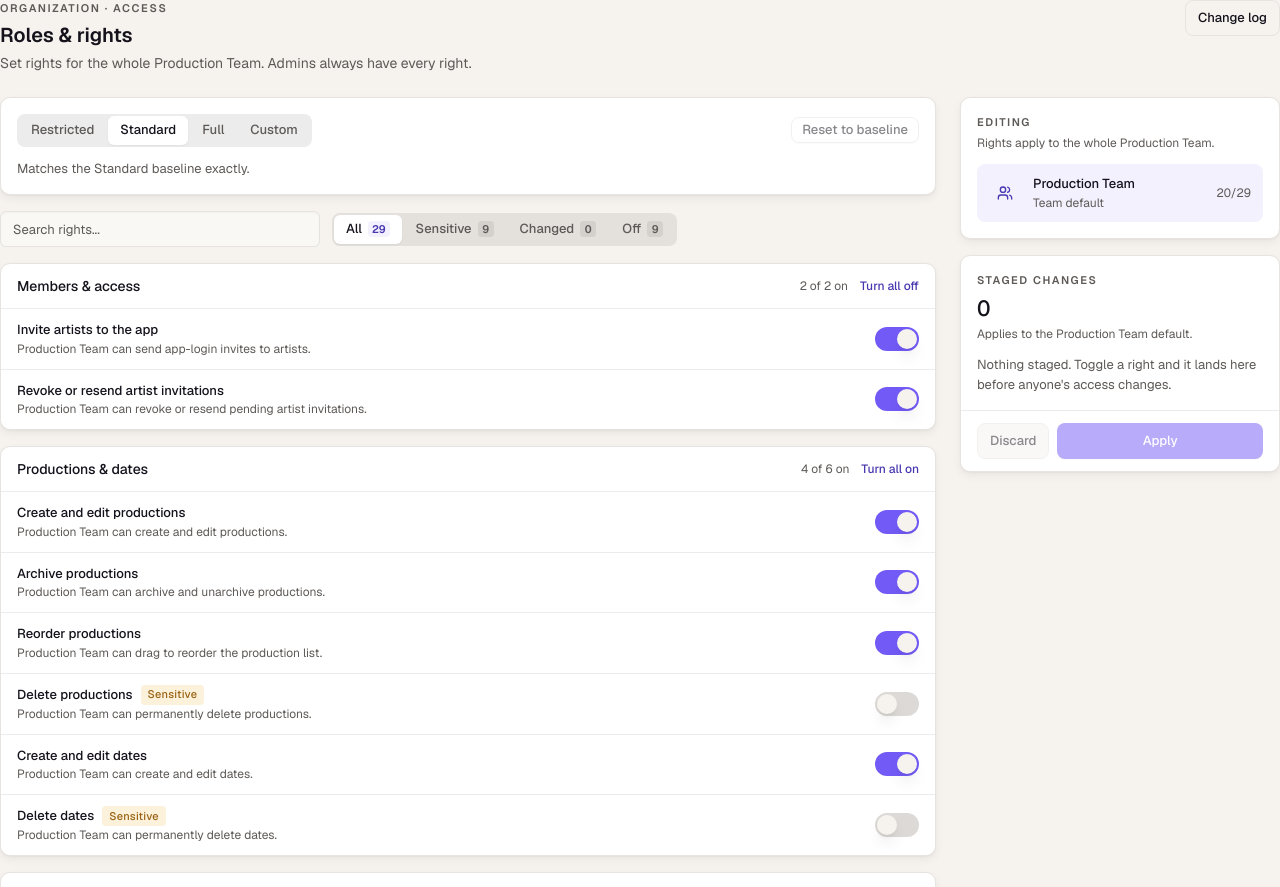
Test: RolesRightsTab › routes a sensitive toggle through the confirm dialog before writing
This screenshot has width=1280, height=887.
Later steps or results of the test are not shown.
Click the switch named "Delete productions".
click(897, 704)  # box [875,692,919,716]
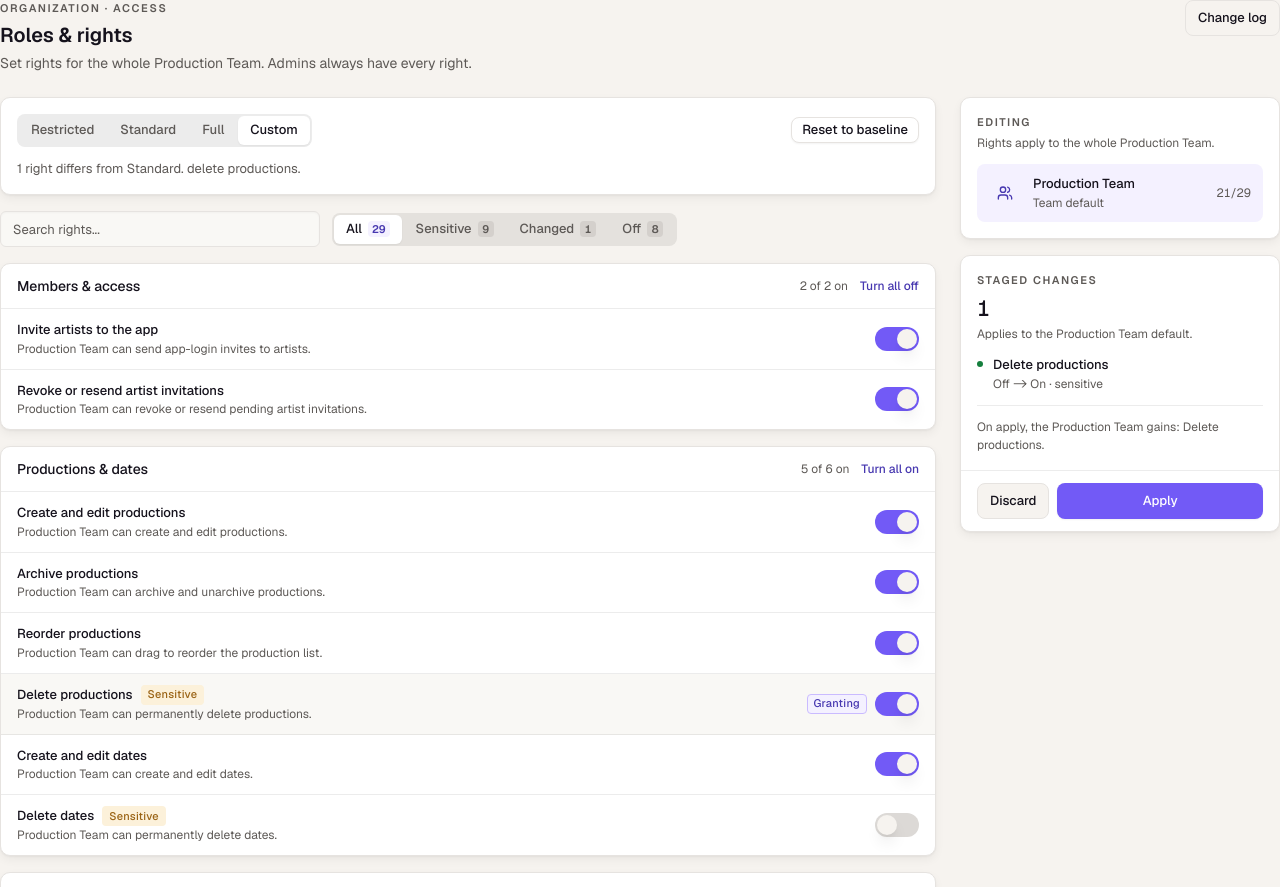
Click the button "Apply".
click(1160, 500)  # box [1058,482,1263,518]
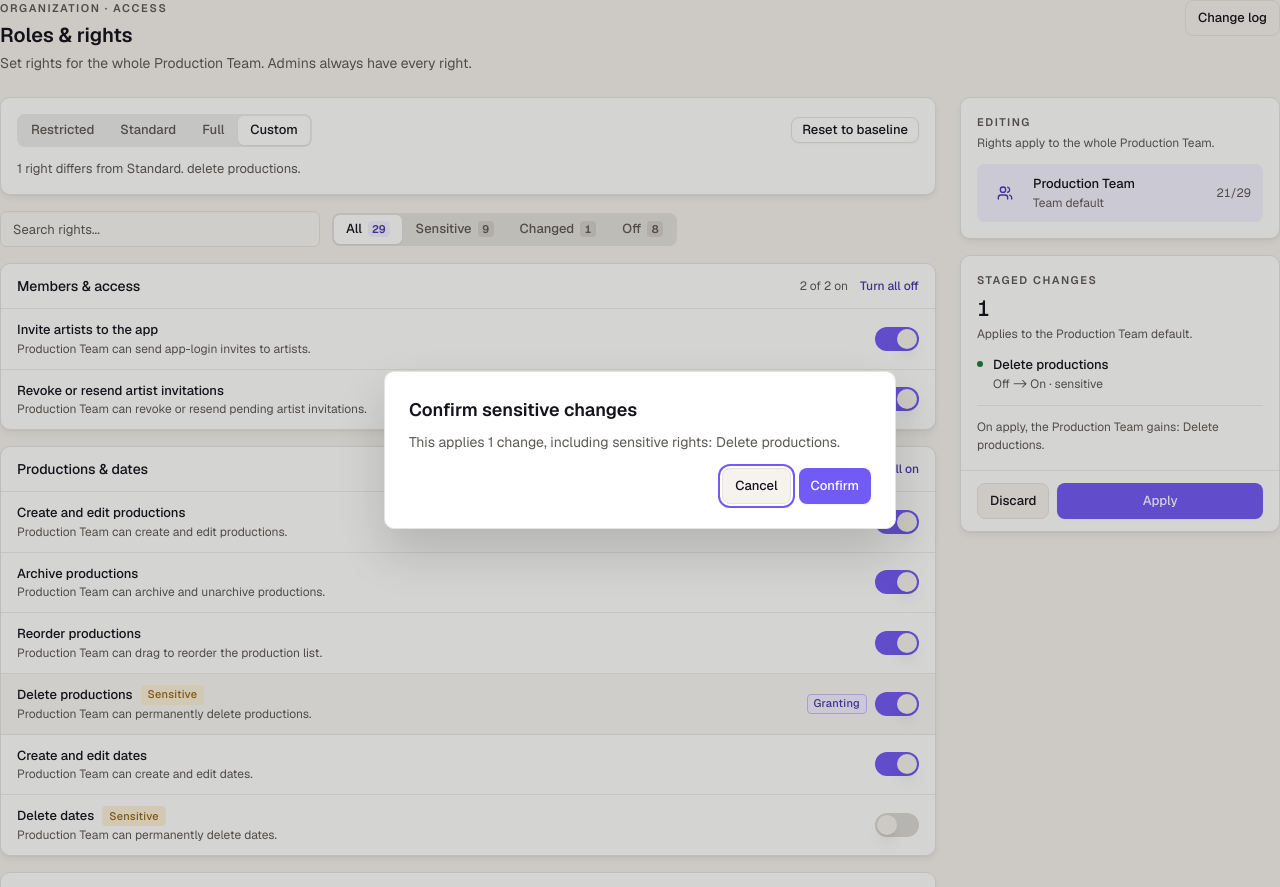
Now the heading "Confirm sensitive changes" is shown, box [409,398,637,421]
